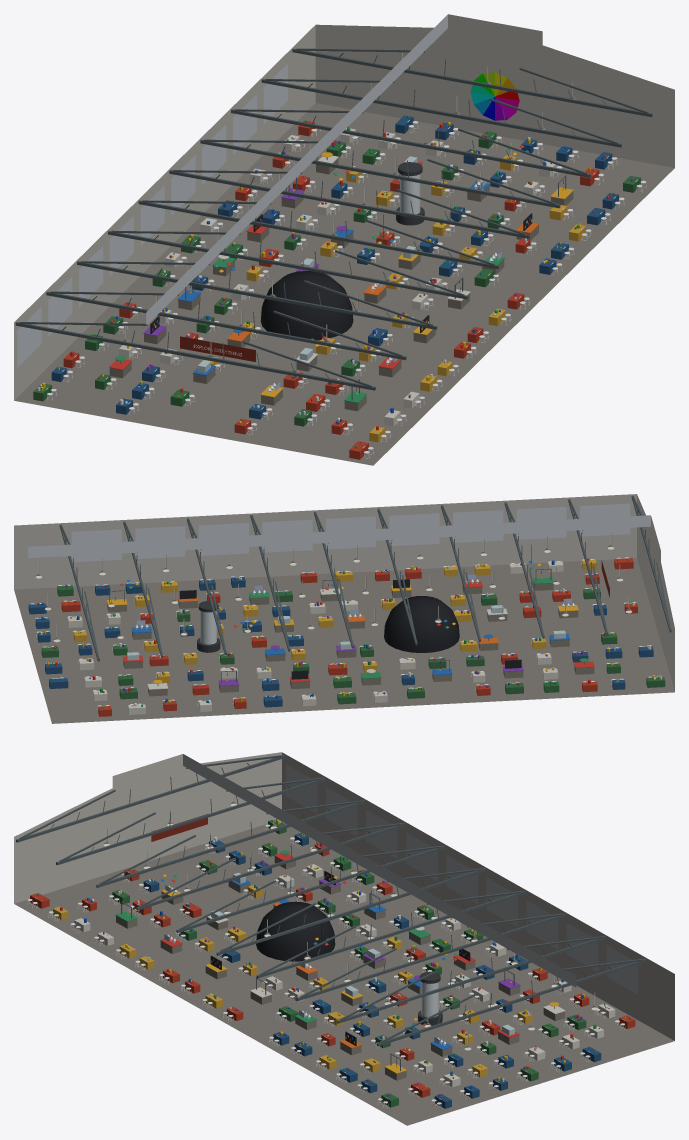
Rendered from exploratorium_int.glb.
The picture shows the model from 3 angles, top to bottom: view 1: azimuth 30°, elevation 25°; view 2: azimuth 150°, elevation 25°; view 3: azimuth 270°, elevation 25°; orthographic projection. The views are drawn at different scales.
Parts seen in each view (by area): view 1: I_concrete, I_x_plaster, I_metal, I_x_veneer, I_sky, I_paint, I_p_metal_stool_02__0, I_d_paint, I_glassI, I_x_velvet; view 2: I_concrete, I_x_plaster, I_x_veneer, I_sky, I_metal, I_paint, I_d_paint, I_p_metal_stool_02__0, I_glassI, I_lampI; view 3: I_concrete, I_x_plaster, I_x_veneer, I_metal, I_sky, I_paint, I_p_metal_stool_02__0, I_d_paint, I_glassI, I_lampI.
Part boxes in pixels (left/top/right/bottom): I_concrete: left=14, top=103, right=674, bottom=465; I_x_plaster: left=14, top=14, right=674, bottom=400; I_metal: left=15, top=48, right=652, bottom=400; I_x_veneer: left=33, top=115, right=640, bottom=459; I_sky: left=17, top=14, right=447, bottom=367; I_paint: left=109, top=72, right=573, bottom=403; I_p_metal_stool_02__0: left=47, top=121, right=646, bottom=458; I_d_paint: left=37, top=115, right=634, bottom=448; I_glassI: left=197, top=156, right=497, bottom=393; I_x_velvet: left=180, top=336, right=255, bottom=361; I_concrete: left=14, top=558, right=674, bottom=723; I_x_plaster: left=14, top=494, right=674, bottom=691; I_x_veneer: left=28, top=558, right=665, bottom=716; I_sky: left=28, top=503, right=650, bottom=562; I_metal: left=36, top=495, right=671, bottom=685; I_paint: left=106, top=560, right=594, bottom=689; I_d_paint: left=37, top=558, right=662, bottom=708; I_p_metal_stool_02__0: left=30, top=557, right=658, bottom=710; I_glassI: left=127, top=579, right=574, bottom=660; I_lampI: left=35, top=547, right=657, bottom=706; I_concrete: left=14, top=821, right=674, bottom=1125; I_x_plaster: left=14, top=752, right=674, bottom=1040; I_x_veneer: left=30, top=819, right=635, bottom=1108; I_metal: left=16, top=755, right=645, bottom=1070; I_sky: left=183, top=754, right=638, bottom=994; I_paint: left=115, top=850, right=565, bottom=1073; I_p_metal_stool_02__0: left=27, top=824, right=625, bottom=1109; I_d_paint: left=37, top=818, right=630, bottom=1098; I_glassI: left=167, top=872, right=514, bottom=1045; I_lampI: left=35, top=803, right=624, bottom=1099.
Bounding box in the file's own units: 82.41 × 12.1 × 75.07.
